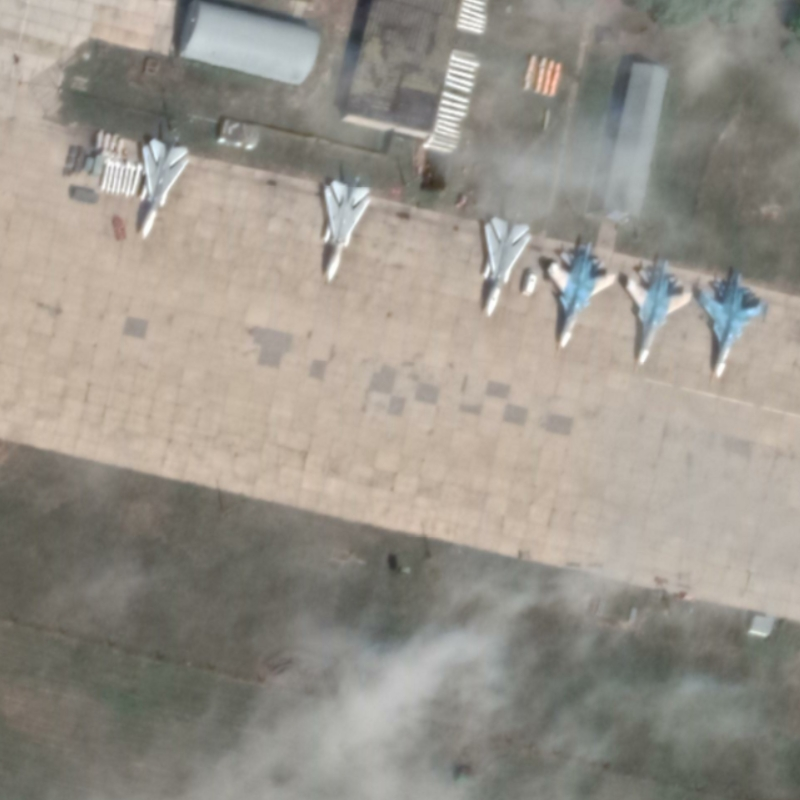A19: (695, 269, 771, 381), (545, 240, 618, 350), (623, 258, 695, 367)
A20: (138, 135, 192, 240), (321, 178, 373, 284), (481, 215, 534, 319)
